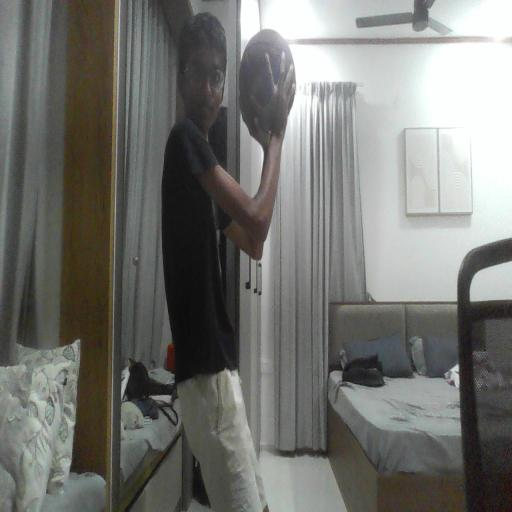basketball: (239, 30, 293, 130)
